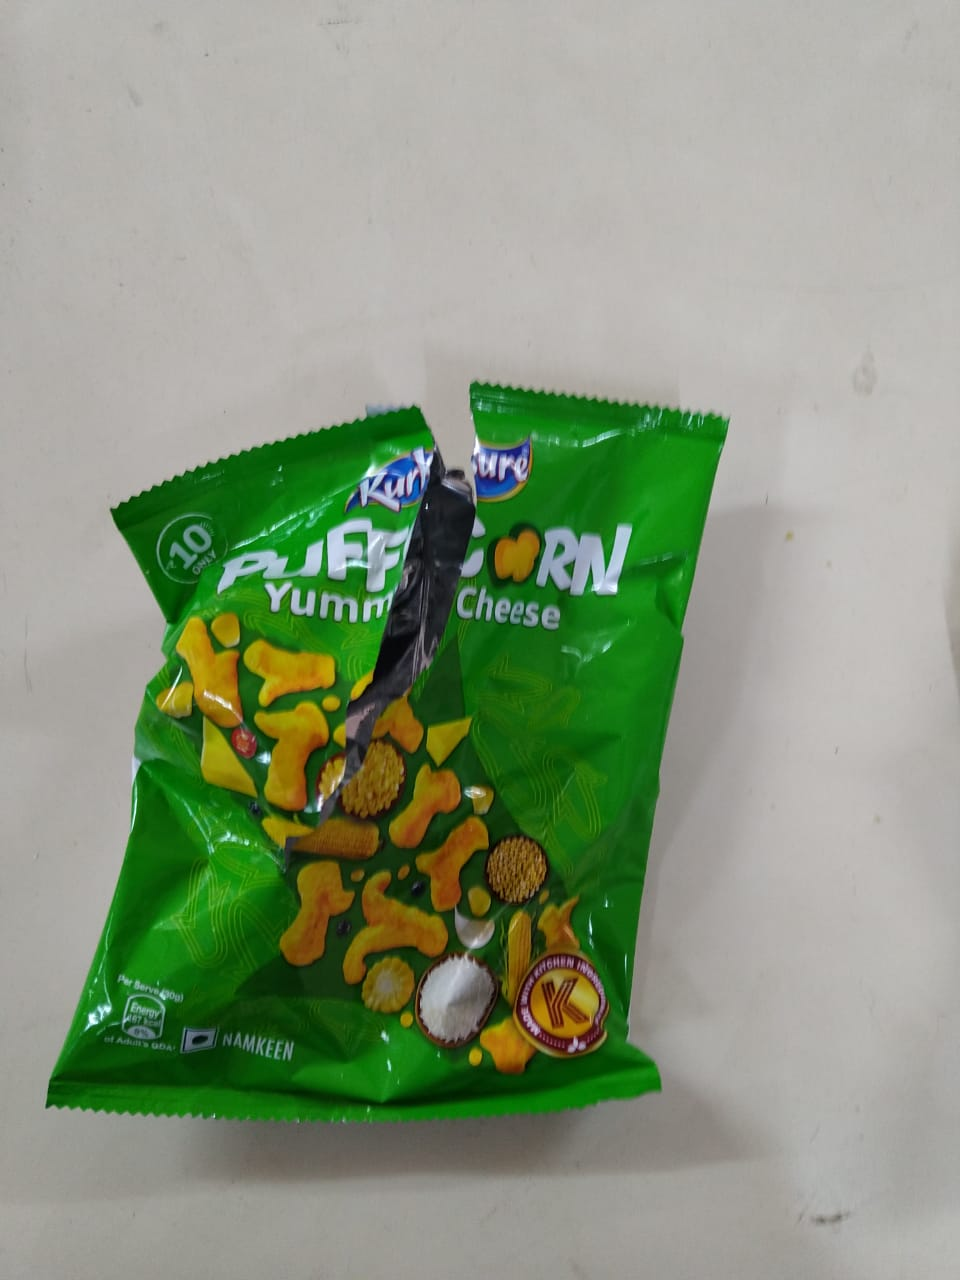kurkure: (425, 434, 570, 527), (337, 442, 559, 499), (384, 444, 525, 507), (351, 438, 447, 527)
plastic: (86, 381, 698, 1133)
wrapper: (121, 362, 678, 1117)
